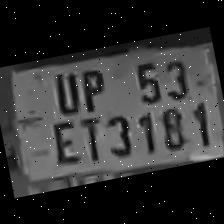1: (182, 93, 214, 148), (128, 104, 160, 156)
3: (98, 106, 136, 161), (156, 52, 192, 100)
5: (127, 55, 166, 105)
8: (154, 100, 190, 152)
E: (44, 114, 83, 168)
P: (72, 60, 112, 113)
T: (72, 112, 107, 162)
U: (44, 64, 83, 116)
